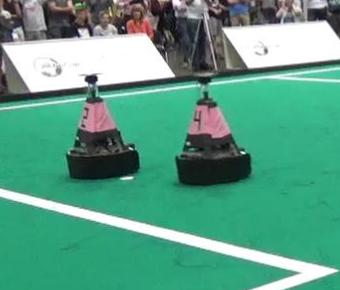robot: (175, 72, 257, 188), (63, 72, 142, 180)
